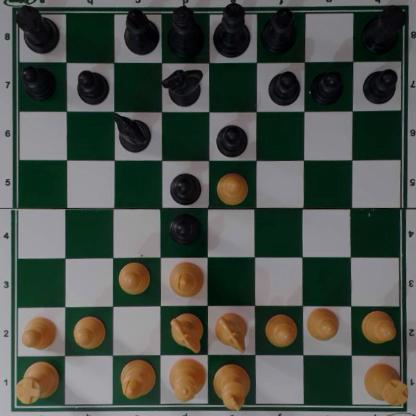black-bishop: (260, 5, 297, 53), (123, 6, 159, 53)
black-king: (212, 1, 251, 59)
black-knight: (112, 112, 151, 151), (164, 66, 201, 105)
black-pawn: (362, 67, 397, 104), (21, 65, 56, 101), (215, 121, 249, 157), (169, 171, 203, 205), (76, 67, 107, 104), (268, 70, 299, 105), (311, 69, 343, 102), (169, 211, 199, 244)
black-queen: (167, 5, 205, 56)
black-rook: (14, 3, 61, 55), (360, 6, 403, 53)
white-bishop: (119, 358, 154, 400), (169, 259, 204, 296)
white-king: (213, 359, 249, 410)
white-knight: (214, 312, 248, 351), (170, 314, 204, 352)
white-pawn: (19, 315, 58, 349), (361, 310, 397, 344), (72, 315, 106, 348), (306, 307, 339, 341), (117, 261, 150, 294), (215, 171, 249, 203), (264, 314, 297, 346)
white-queen: (169, 355, 204, 405)
white-rook: (363, 362, 409, 405), (14, 360, 59, 403)
